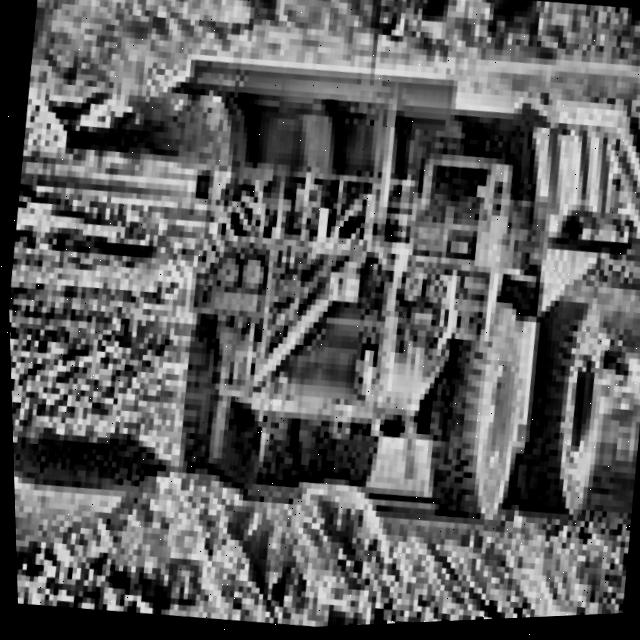dump_truck: (103, 13, 640, 552)
